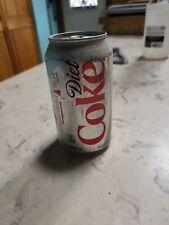metal: (46, 33, 112, 152)
